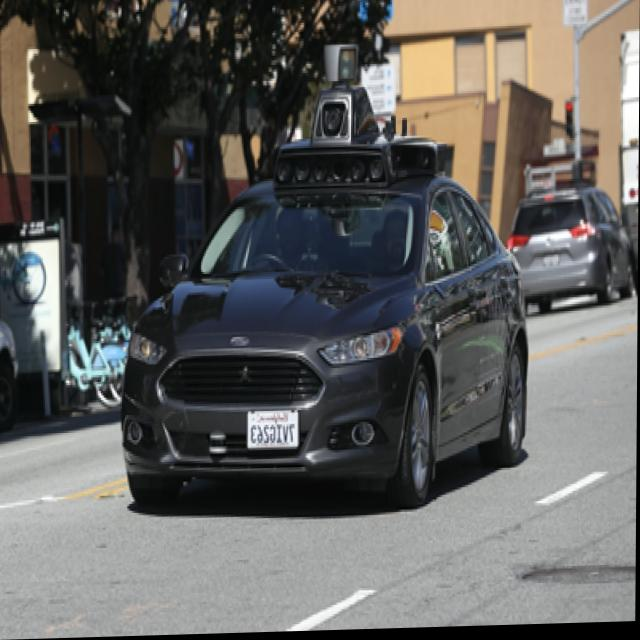licence: (247, 405, 300, 454)
